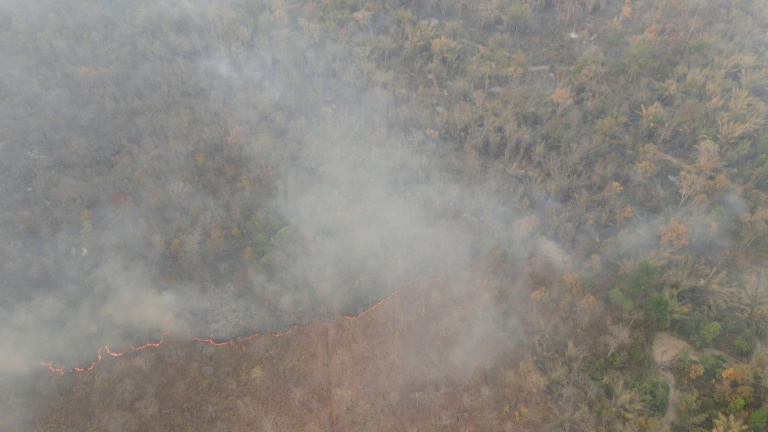fire: (182, 275, 435, 354), (3, 320, 181, 381)
smoke: (1, 3, 568, 432), (568, 183, 768, 287)
